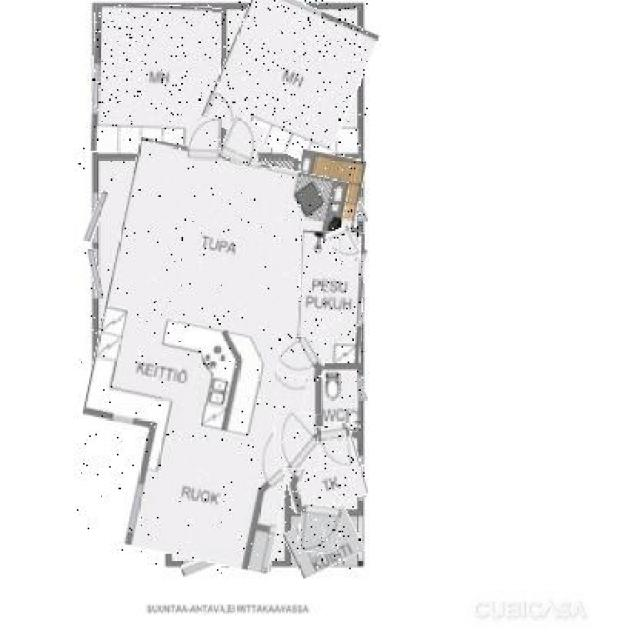door: (276, 414, 322, 469), (298, 506, 342, 554), (279, 336, 323, 378), (223, 119, 263, 164), (317, 425, 352, 469), (188, 120, 222, 163), (329, 226, 358, 262)
window: (182, 552, 228, 576), (88, 191, 104, 243), (162, 492, 176, 548), (230, 557, 272, 572), (251, 0, 294, 14), (91, 248, 100, 298), (92, 66, 100, 119), (354, 250, 368, 276), (357, 458, 365, 497), (354, 377, 366, 400), (126, 431, 148, 442), (356, 198, 366, 222), (357, 296, 365, 322)
zone: (77, 148, 331, 566), (212, 0, 367, 158), (92, 6, 220, 154), (297, 229, 363, 363), (279, 422, 363, 509), (292, 152, 363, 232), (286, 511, 362, 572), (320, 370, 362, 428)
